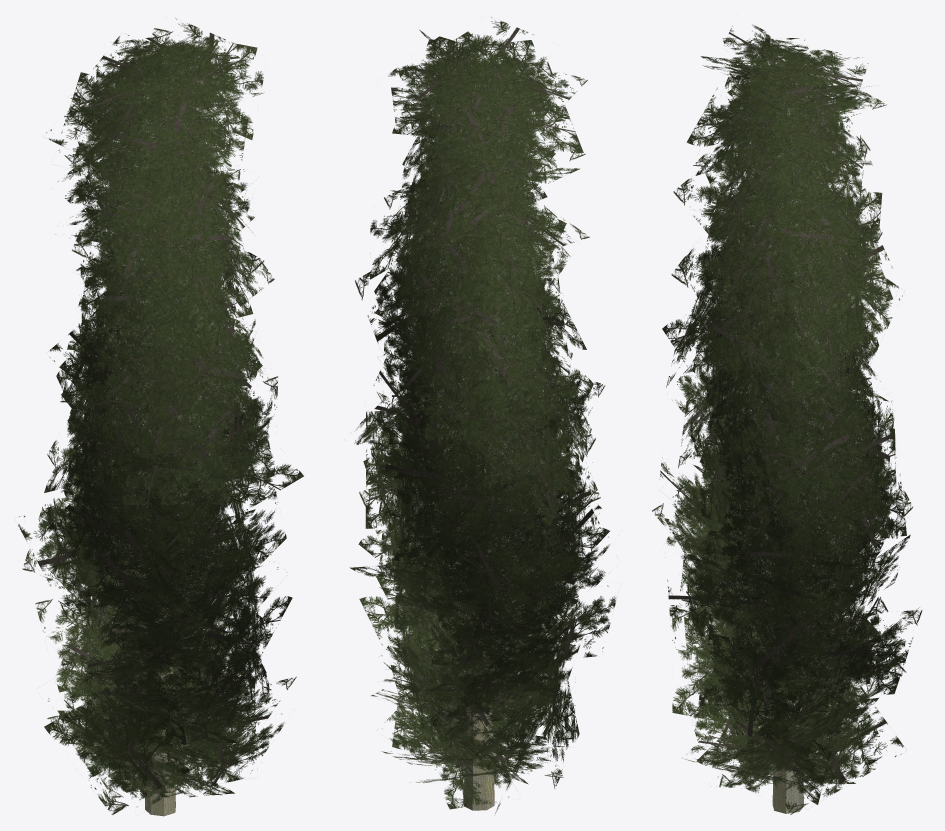
File: cypress.glb
3 views of the same model, side by side, from view 1: azimuth 30°, elevation 25°; view 2: azimuth 150°, elevation 25°; view 3: azimuth 270°, elevation 25° (orthographic).
Visible parts, largest first — view 1: cards, trunk; view 2: cards, trunk; view 3: cards, trunk.
Boxes of the visible parts, x1=… form: cards: x1=18, y1=18, x2=303, y2=814; trunk: x1=145, y1=123, x2=175, y2=816; cards: x1=349, y1=17, x2=616, y2=815; trunk: x1=463, y1=166, x2=494, y2=810; cards: x1=652, y1=24, x2=922, y2=814; trunk: x1=772, y1=96, x2=803, y2=813.
Size of the model in its own units: 4.13 by 11.56 by 3.79.
2 materials, 2 textured.
